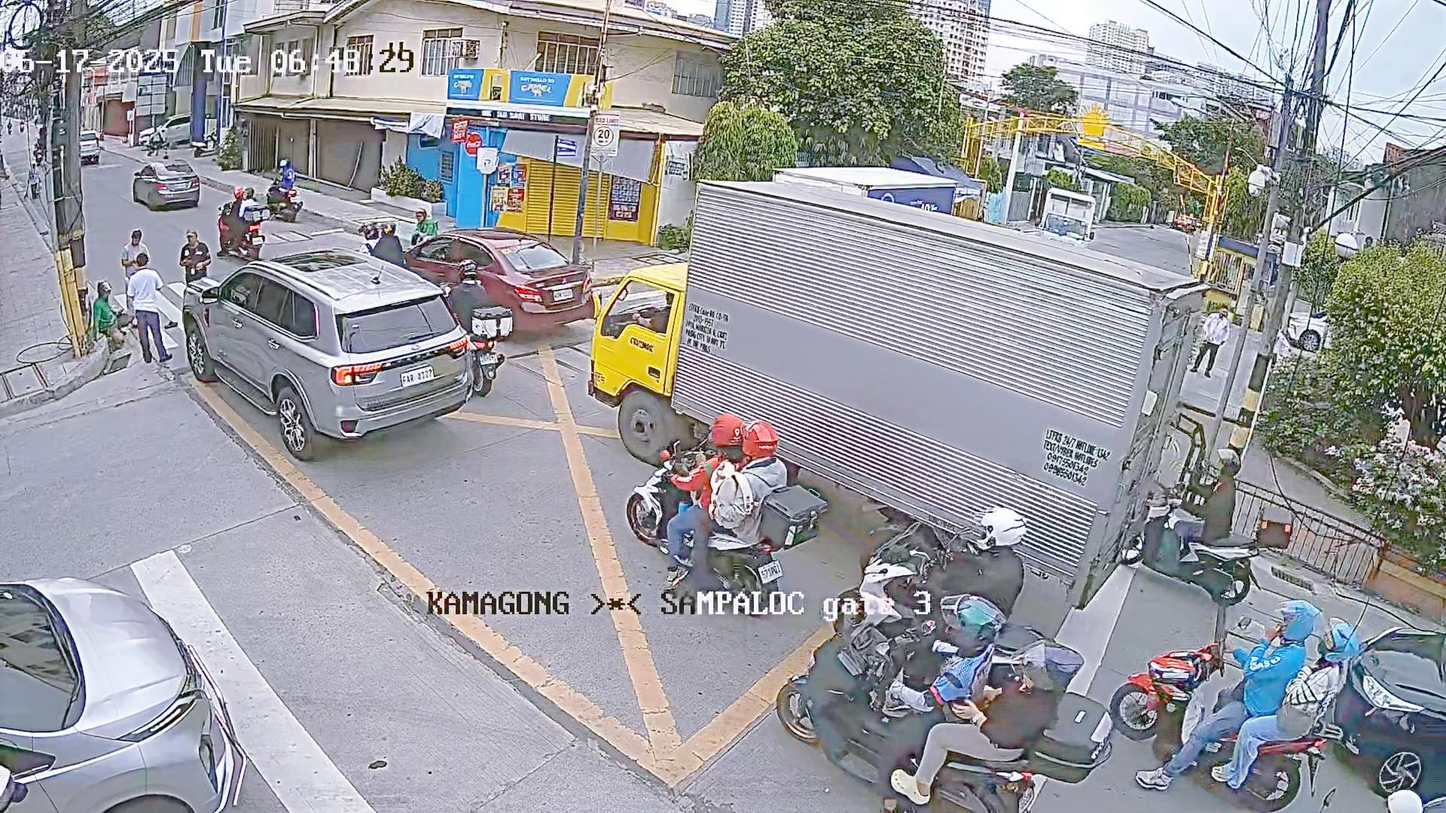Car: (569, 147, 1133, 607), (0, 499, 301, 813), (153, 236, 506, 431), (399, 199, 627, 350), (1348, 578, 1446, 813), (121, 151, 205, 211)
Motor: (803, 571, 1136, 777), (581, 394, 833, 587), (1139, 579, 1341, 791), (1103, 422, 1304, 581), (854, 468, 1039, 627), (193, 180, 292, 261), (254, 146, 315, 219)
